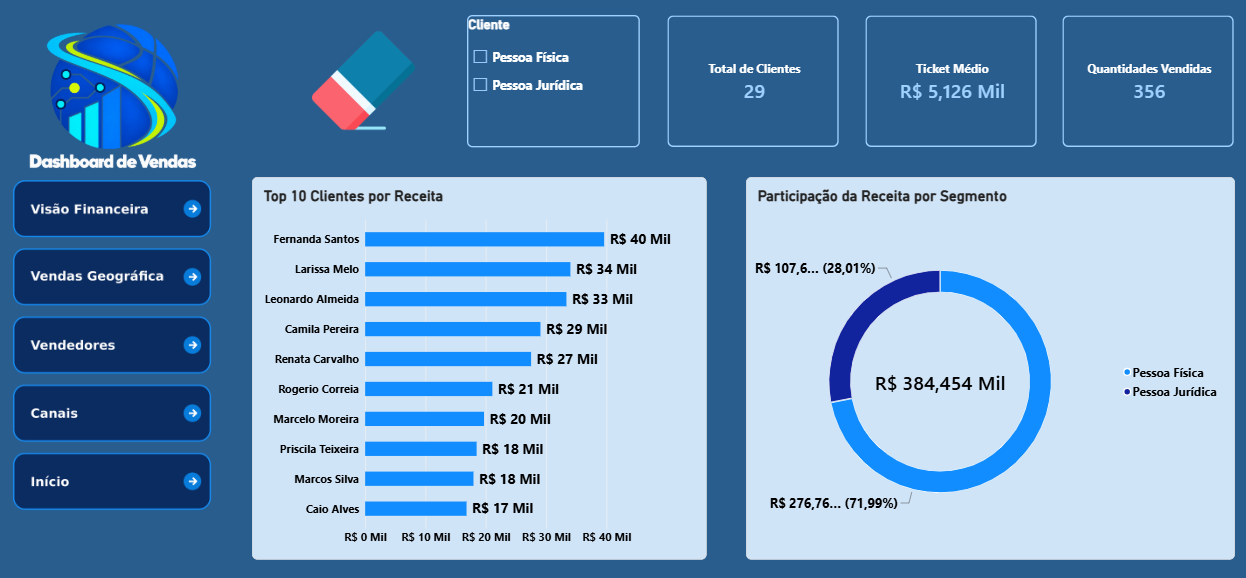

What the dashboard file says about the page in this screenshot:
{"tool":"powerbi","page":{"name":"Cliente","canvas":[1900,970],"ordinal":4},"visuals":[{"type":"donutChart","title":"Participação da Receita por Segmento","fields":{"Category":["Dim_Cliente.Segmento"],"Y":["FATO_VENDAS.Receita_Total"]},"box":[1135.9,293.1,713,558.5],"z":0},{"type":"clusteredBarChart","title":"Top 10 Clientes por Receita","fields":{"Category":["Dim_Cliente.Nome_Cliente"],"Y":["FATO_VENDAS.Receita_Total"]},"box":[415.6,293.1,663.5,558.5],"z":1000},{"type":"cardVisual","fields":{"Data":["Dim_Cliente.Total_Clientes"]},"box":[1020.4,56.3,251.7,193.1],"z":2000},{"type":"cardVisual","fields":{"Data":["FATO_VENDAS.Ticket_Médio"]},"box":[1309.8,56.3,251.7,193.1],"z":3000},{"type":"cardVisual","fields":{"Data":["FATO_VENDAS.Quantidades_Vendidas"]},"box":[1596.6,56.3,251.7,193.1],"z":4000},{"type":"slicer","title":"Cliente","fields":{"Values":["Dim_Cliente.Segmento"]},"box":[729.8,56.3,251.7,193.1],"z":5000},{"type":"image","box":[57.6,210,306,655.5],"z":6000},{"type":"image","box":[468.1,77.3,220,150],"z":7000},{"type":"image","box":[44.8,42.3,332.9,261.2],"z":8000},{"type":"actionButton","box":[67.9,293.2,286.8,85.8],"z":9000},{"type":"actionButton","box":[67.9,396.9,286.8,81.9],"z":10000},{"type":"actionButton","box":[67.9,500.6,286.8,79.4],"z":11000},{"type":"actionButton","box":[67.9,596.6,286.8,81.9],"z":12000},{"type":"actionButton","box":[67.9,693.9,286.8,84.5],"z":13000}]}

Visuals, with their boxes on the page's 1900x970 design canvas (x1, y1, x2, y2). These are canvas units, not pixel positions in the 1246x578 screenshot, which may show the page scaled, cropped or inside an application window:
"Participação da Receita por Segmento" donutChart: l=1136, t=293, r=1849, b=852
"Top 10 Clientes por Receita" clusteredBarChart: l=416, t=293, r=1079, b=852
cardVisual - Dim_Cliente.Total_Clientes: l=1020, t=56, r=1272, b=249
cardVisual - FATO_VENDAS.Ticket_Médio: l=1310, t=56, r=1562, b=249
cardVisual - FATO_VENDAS.Quantidades_Vendidas: l=1597, t=56, r=1848, b=249
"Cliente" slicer: l=730, t=56, r=982, b=249
image: l=58, t=210, r=364, b=866
image: l=468, t=77, r=688, b=227
image: l=45, t=42, r=378, b=304
actionButton: l=68, t=293, r=355, b=379
actionButton: l=68, t=397, r=355, b=479
actionButton: l=68, t=501, r=355, b=580
actionButton: l=68, t=597, r=355, b=678
actionButton: l=68, t=694, r=355, b=778
